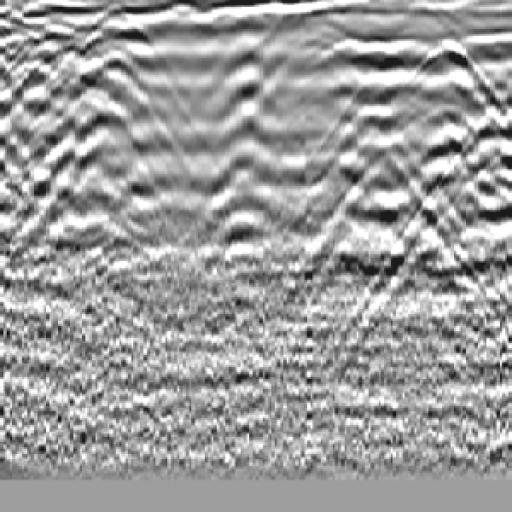non-metallic: (5, 23, 191, 221), (365, 27, 512, 255)
